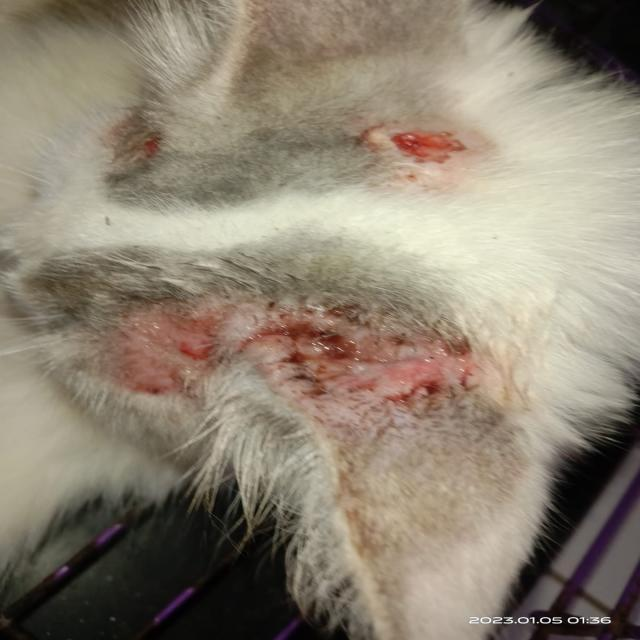hac lao: (248, 255, 464, 477), (75, 240, 223, 428), (318, 83, 526, 196)
